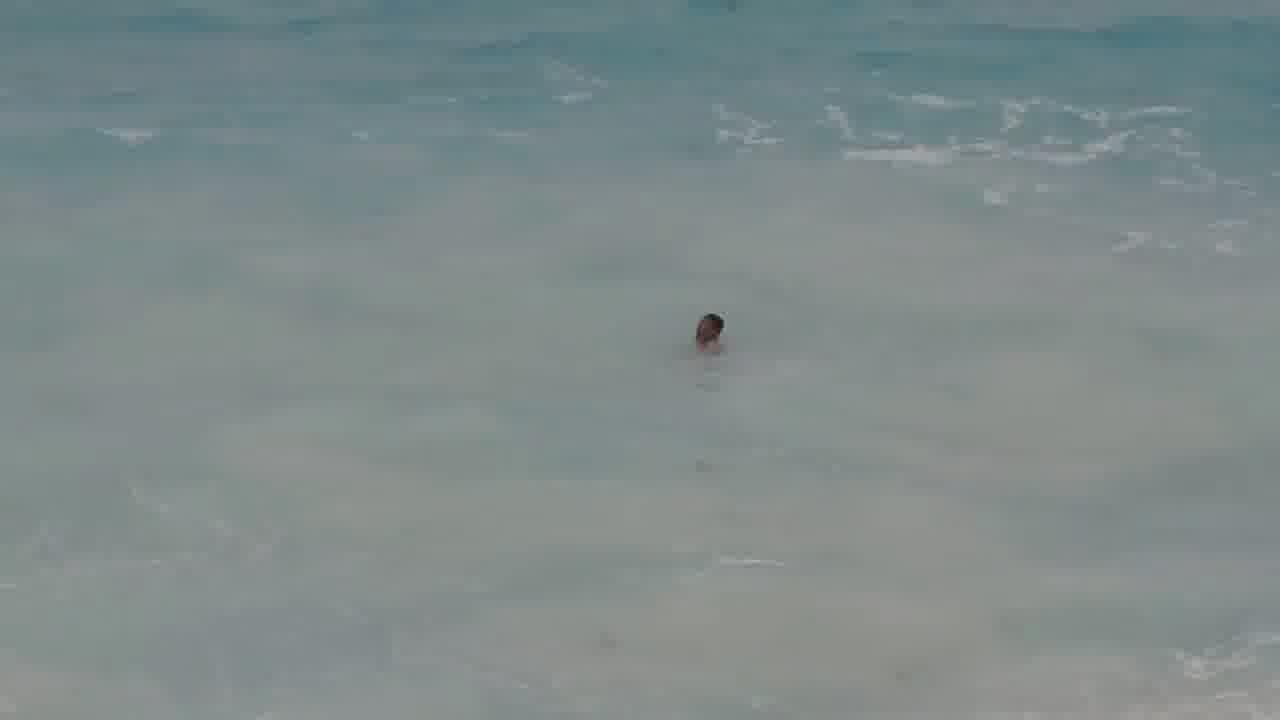swimmer: (679, 308, 732, 355)
